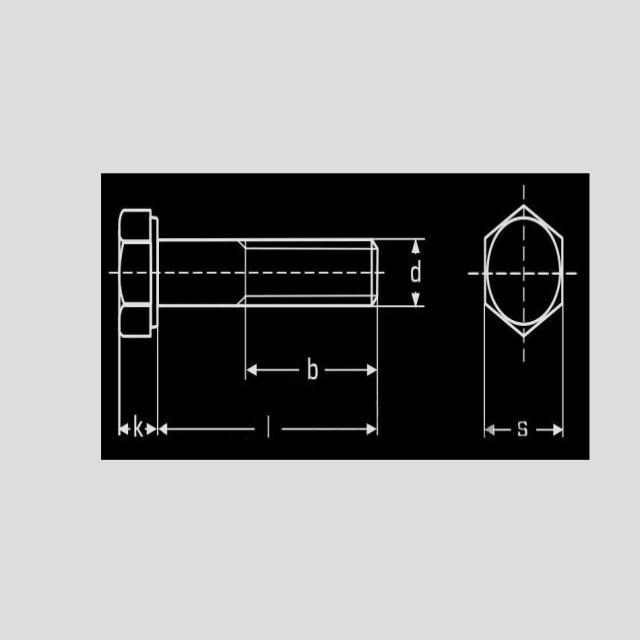marking_line: (154, 331, 381, 441), (277, 310, 383, 438), (155, 333, 258, 436), (242, 310, 303, 380), (324, 310, 381, 376), (380, 236, 428, 311), (481, 332, 514, 438), (536, 330, 567, 438), (143, 339, 160, 437), (116, 339, 132, 438), (380, 238, 429, 257), (380, 290, 424, 311)
